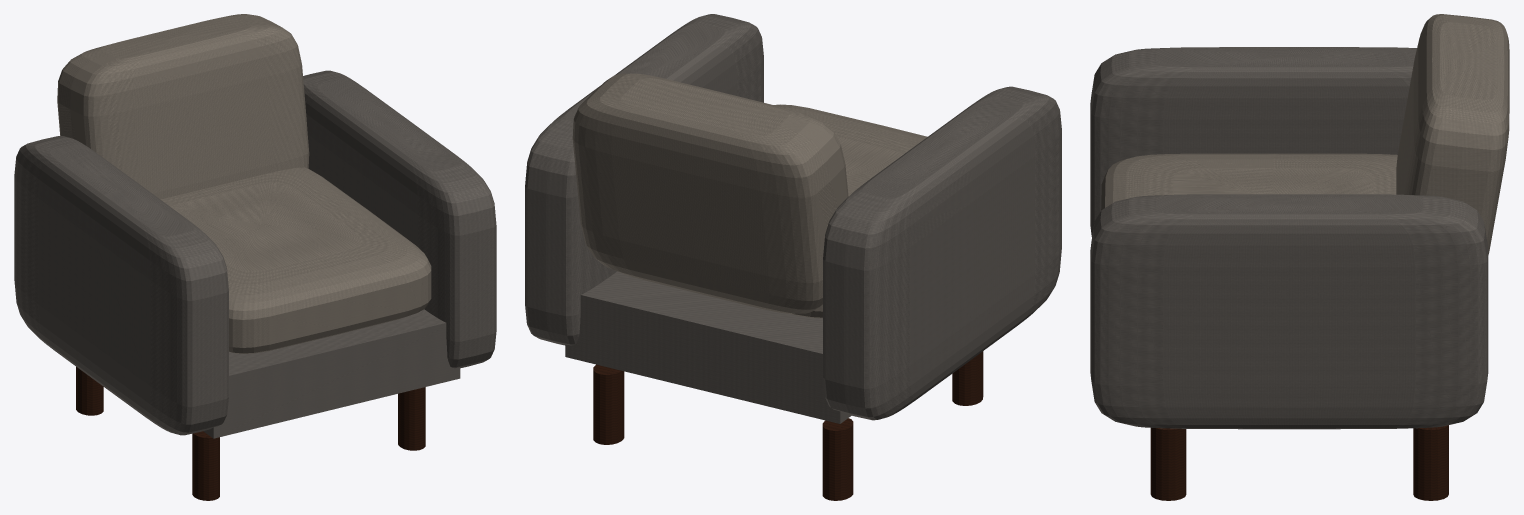
Rendered from armchair_lod1.glb.
The picture shows the model from 3 angles, left to right: view 1: azimuth 30°, elevation 25°; view 2: azimuth 150°, elevation 25°; view 3: azimuth 270°, elevation 25°; orthographic projection. The views are drawn at different scales.
Parts seen in each view (by area): view 1: arm_left, back, seat, arm_right, base, leg_3, leg_4, leg_1; view 2: arm_left, back, base, arm_right, seat, leg_1, leg_2, leg_3; view 3: arm_right, arm_left, back, seat, leg_4, leg_2.
Part boxes in pixels (<box>): arm_left: <box>14,136,228,435</box>; back: <box>57,14,309,199</box>; seat: <box>161,167,431,353</box>; arm_right: <box>303,70,496,368</box>; base: <box>203,309,460,438</box>; leg_3: <box>192,431,219,500</box>; leg_4: <box>398,387,425,450</box>; leg_1: <box>76,367,103,415</box>; arm_left: <box>823,86,1061,420</box>; back: <box>572,73,848,313</box>; base: <box>565,271,851,423</box>; arm_right: <box>525,14,763,345</box>; seat: <box>774,104,927,318</box>; leg_1: <box>822,418,853,500</box>; leg_2: <box>593,364,624,444</box>; leg_3: <box>952,351,983,405</box>; arm_right: <box>1090,194,1488,429</box>; arm_left: <box>1090,47,1416,236</box>; back: <box>1396,14,1509,254</box>; seat: <box>1101,153,1397,210</box>; leg_4: <box>1150,428,1186,500</box>; leg_2: <box>1413,425,1448,500</box>.
Size of the model in its own units: 0.9 by 0.9 by 0.9.
Materials: 3 (3 with a texture image).
